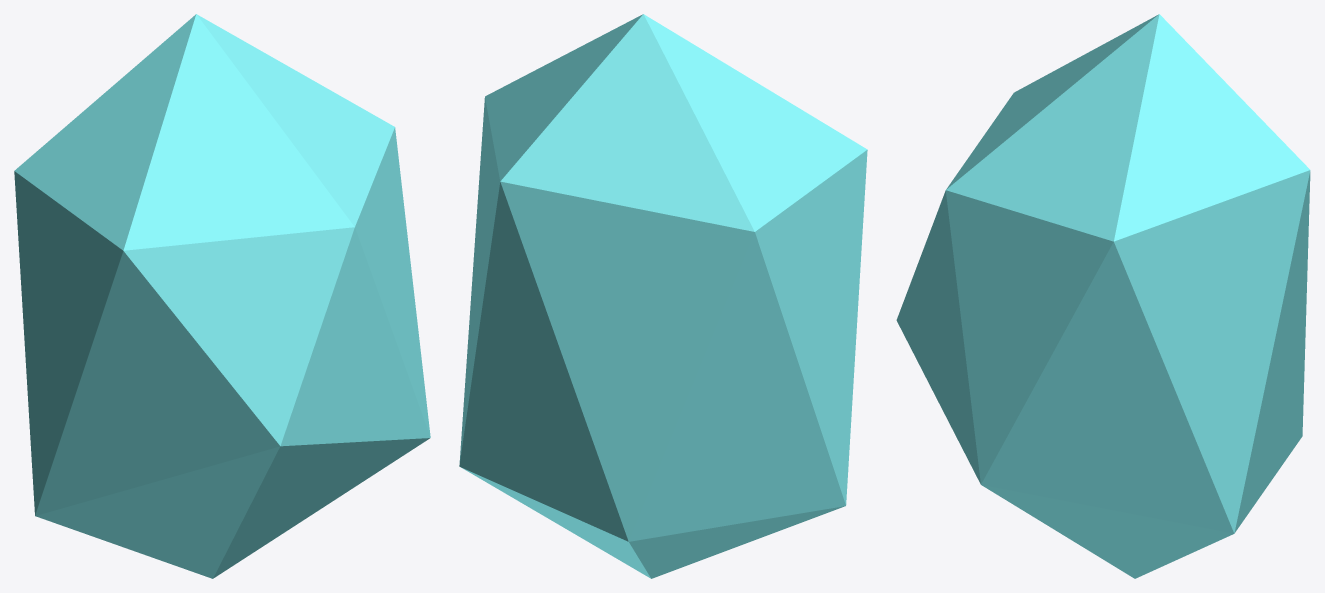
Rendered from BlueCrystal.fbx.
3 renders of one model, left to right at view 1: azimuth 30°, elevation 25°; view 2: azimuth 150°, elevation 25°; view 3: azimuth 270°, elevation 25°, orthographic. The views are drawn at different scales.
Visible parts, largest first — view 1: BlueCrystal; view 2: BlueCrystal; view 3: BlueCrystal.
Boxes of the visible parts, bbox=[...] form: BlueCrystal: bbox=[14, 14, 430, 578]; BlueCrystal: bbox=[459, 14, 867, 578]; BlueCrystal: bbox=[896, 14, 1310, 578].
Bounding box in the file's own units: 100 × 150 × 100.
